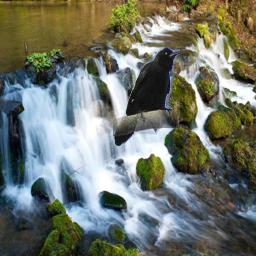Crow: (114, 48, 181, 147)
